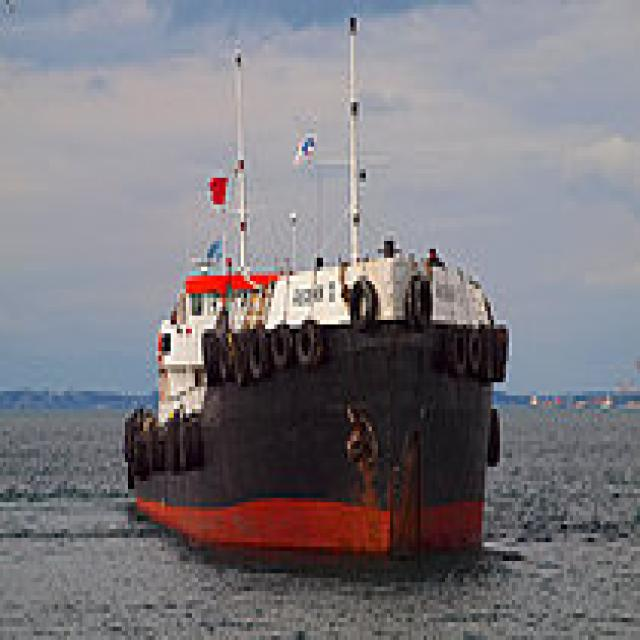Tanker: (119, 9, 512, 569)
